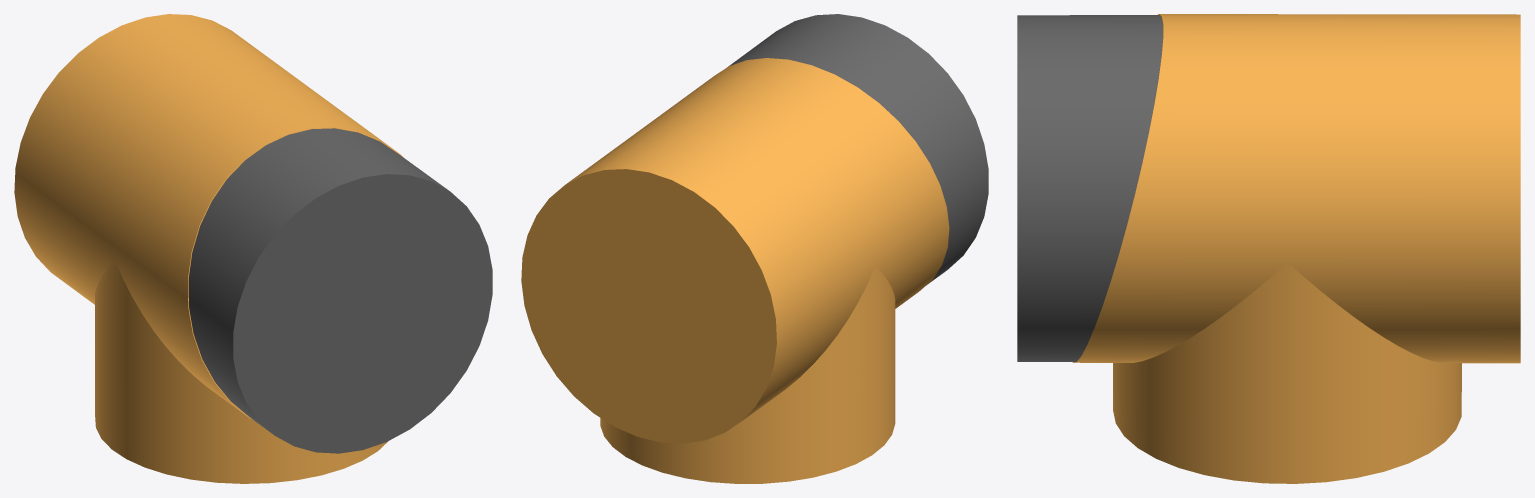
3 views of the same model, side by side, from view 1: azimuth 30°, elevation 25°; view 2: azimuth 150°, elevation 25°; view 3: azimuth 270°, elevation 25° (orthographic). The views are drawn at different scales.
Visible parts, largest first — view 1: FBXASC195FBXASC137FBXASC194FBXASC190FBXASC194FBXASC179FBXASC; view 2: FBXASC195FBXASC137FBXASC194FBXASC190FBXASC194FBXASC179FBXASC; view 3: FBXASC195FBXASC137FBXASC194FBXASC190FBXASC194FBXASC179FBXASC.
Boxes of the visible parts, left/top/right/bottom form: FBXASC195FBXASC137FBXASC194FBXASC190FBXASC194FBXASC179FBXASC: left=14, top=14, right=492, bottom=483; FBXASC195FBXASC137FBXASC194FBXASC190FBXASC194FBXASC179FBXASC: left=521, top=14, right=988, bottom=483; FBXASC195FBXASC137FBXASC194FBXASC190FBXASC194FBXASC179FBXASC: left=1017, top=14, right=1520, bottom=483.
Bounding box in the file's own units: 0.075 × 0.108 × 0.09.
